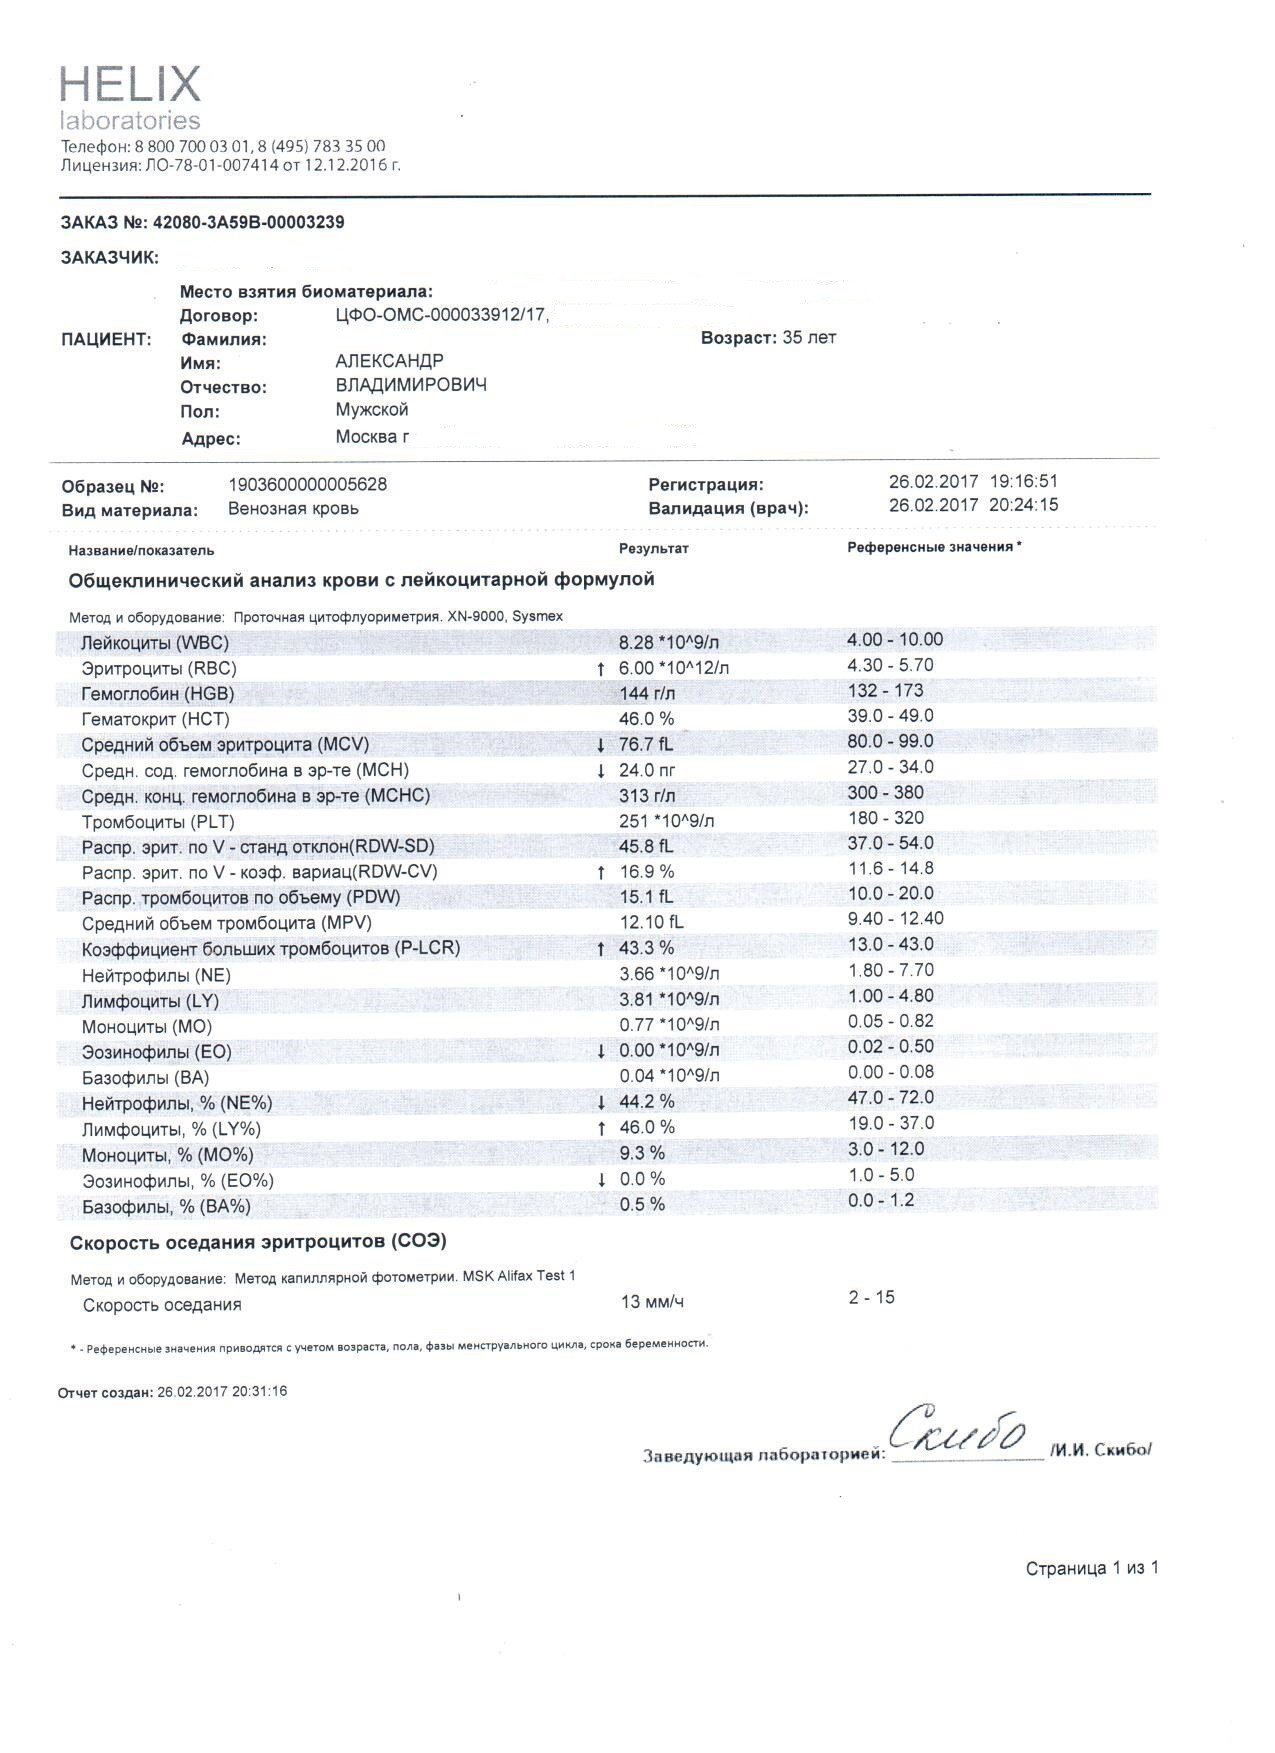column: (80, 632, 460, 1215), (618, 632, 729, 1215), (846, 632, 944, 1215), (83, 1288, 242, 1315), (846, 540, 1014, 557), (68, 540, 214, 557), (620, 1288, 684, 1315), (848, 1288, 895, 1315), (619, 540, 689, 557)
